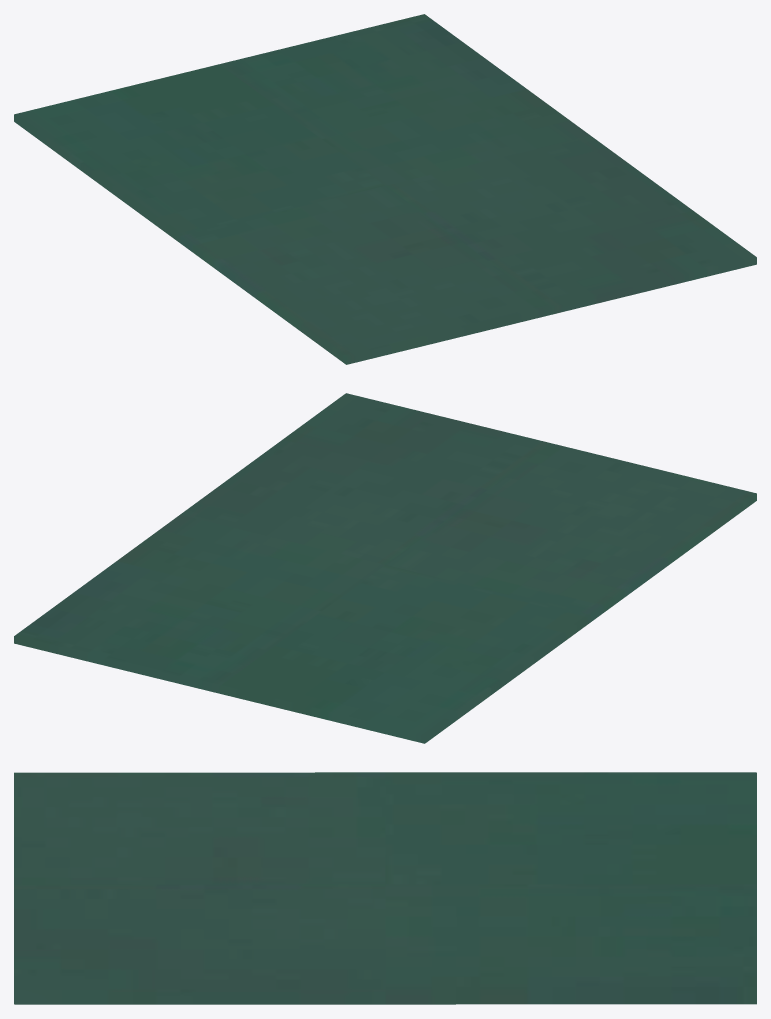
3 renders of one model, top to bottom at view 1: azimuth 30°, elevation 25°; view 2: azimuth 150°, elevation 25°; view 3: azimuth 270°, elevation 25°, orthographic. The views are drawn at different scales.
Visible parts, largest first — view 1: 304362727043706374_0; view 2: 304362727043706374_0; view 3: 304362727043706374_0.
Part boxes in pixels (x1,y1,x2,y2): 304362727043706374_0: (14, 14, 756, 364); 304362727043706374_0: (14, 393, 756, 743); 304362727043706374_0: (14, 772, 756, 1004).
Size of the model in its own units: 109 by 1.92 by 153.
1 material, 1 textured.
